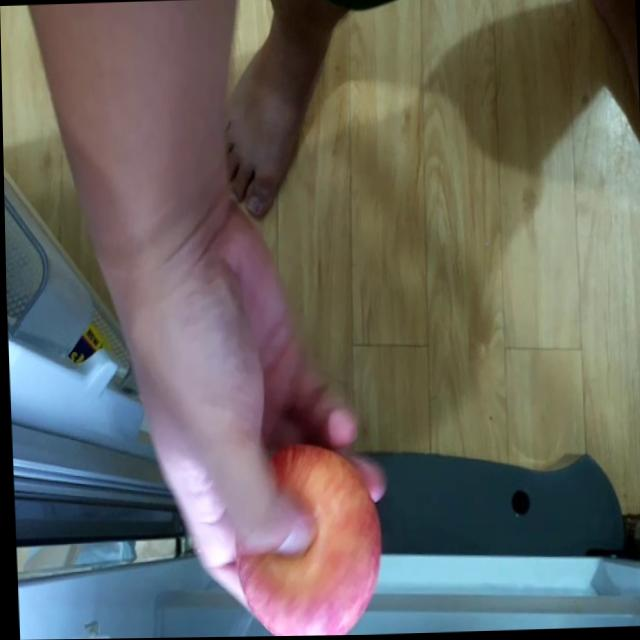apple: (230, 450, 383, 637)
